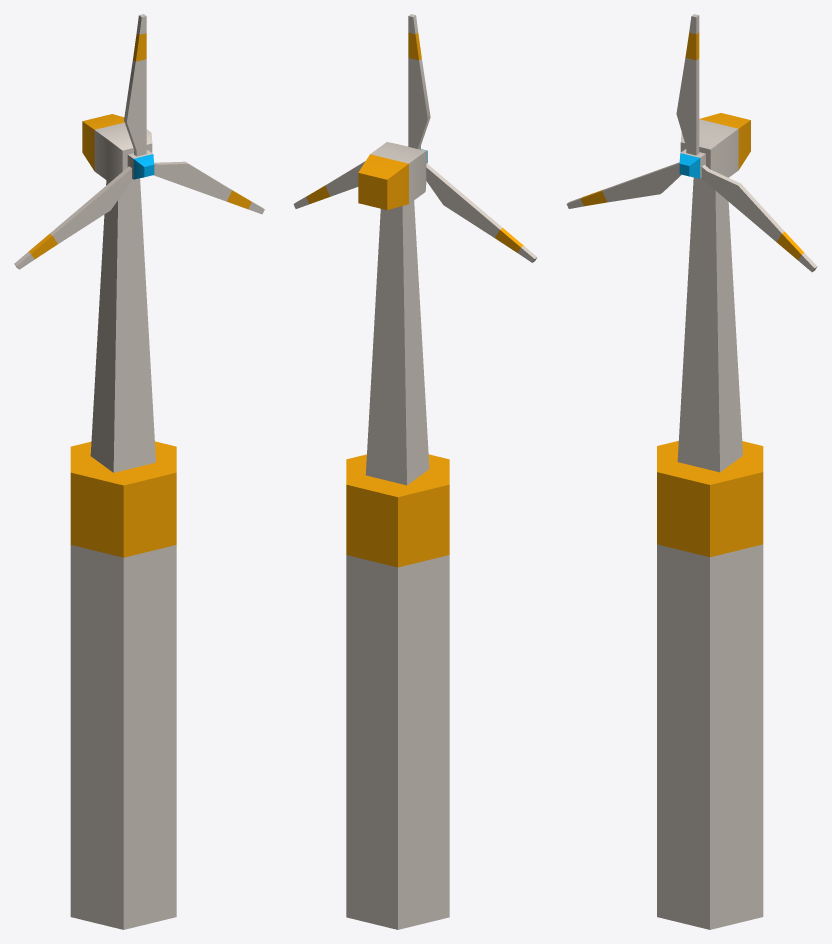
Rendered from windturbine.glb.
3 views of the same model, side by side, from view 1: azimuth 30°, elevation 25°; view 2: azimuth 150°, elevation 25°; view 3: azimuth 330°, elevation 25° (orthographic). The views are drawn at different scales.
Parts seen in each view (by area): view 1: windturbine_base, windturbine_rotor; view 2: windturbine_base, windturbine_rotor; view 3: windturbine_base, windturbine_rotor.
Part boxes in pixels (box(x1,y1,x2,y2)): windturbine_base: box(70, 114, 176, 929); windturbine_rotor: box(14, 14, 264, 269); windturbine_base: box(346, 142, 449, 929); windturbine_rotor: box(293, 14, 537, 262); windturbine_base: box(657, 113, 763, 929); windturbine_rotor: box(566, 14, 817, 272).
Size of the model in its own units: 46.69 by 162 by 17.32.
